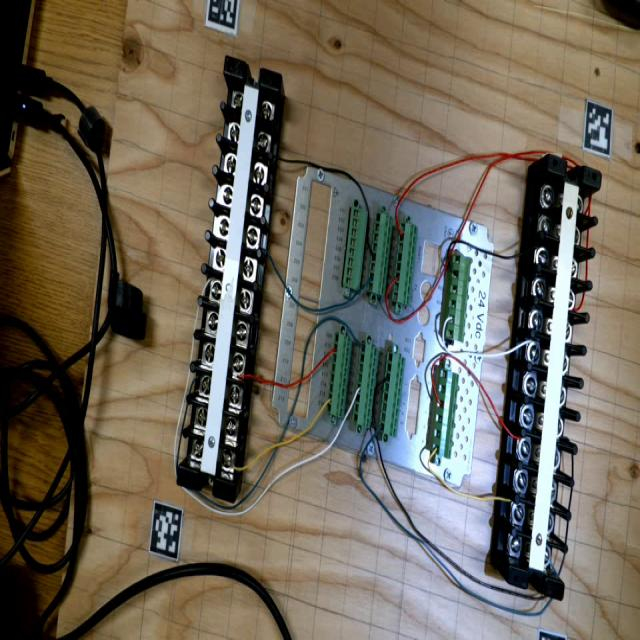Flathead_Block: (508, 154, 603, 601)
Phillips_Block: (176, 56, 284, 503)
Terminal_1: (430, 367, 459, 459), (444, 250, 471, 343)
Terminal_2: (378, 351, 406, 437), (366, 211, 394, 296), (352, 342, 379, 428), (391, 222, 418, 307), (327, 332, 353, 418)
